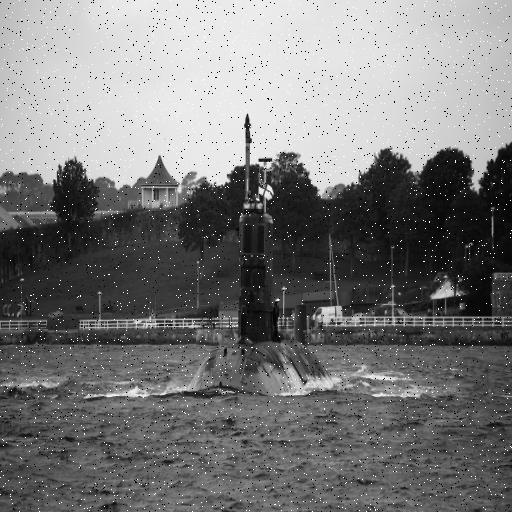submarine: (171, 96, 353, 400)
